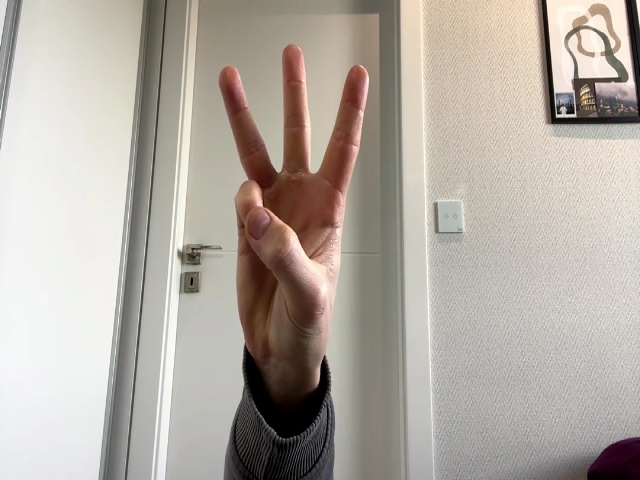W: (219, 44, 368, 351)
